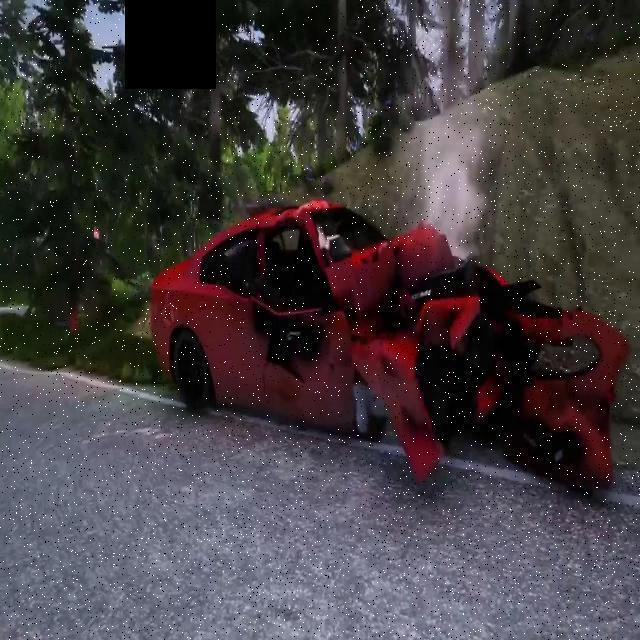single accident: (65, 99, 632, 462)
